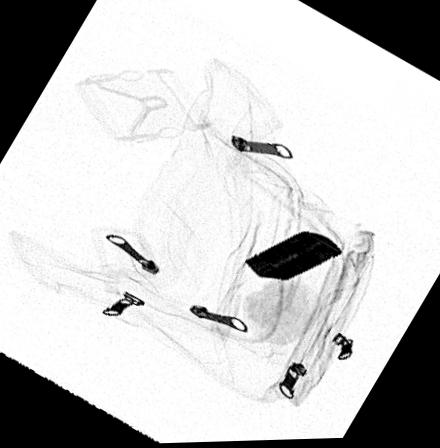Lighter: (243, 233, 341, 284)
